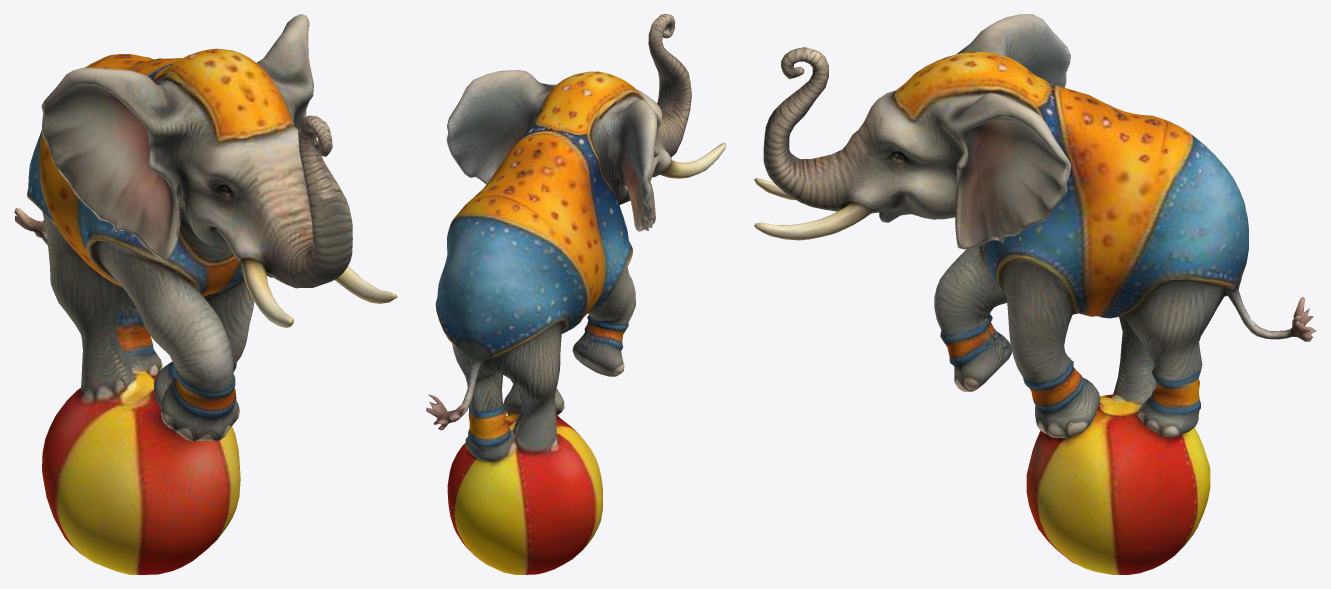
3 renders of one model, left to right at view 1: azimuth 30°, elevation 25°; view 2: azimuth 150°, elevation 25°; view 3: azimuth 270°, elevation 25°, orthographic. The views are drawn at different scales.
Size of the model in its own units: 0.9041 by 1.91 by 1.88.
1 material, 1 textured.
